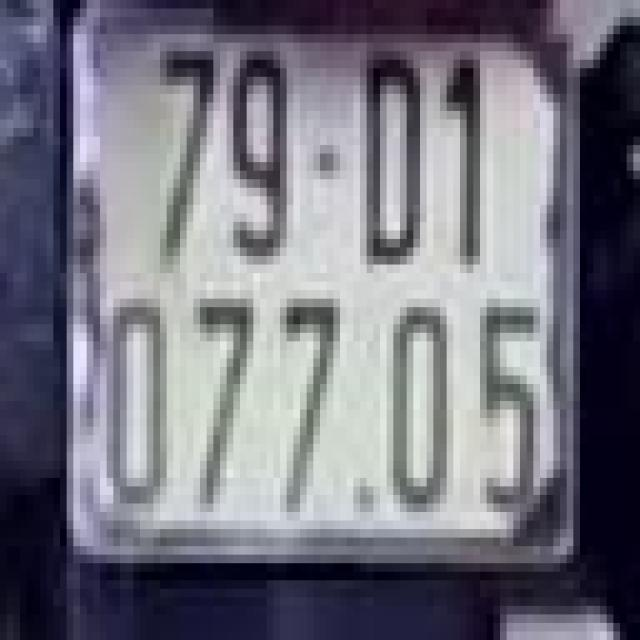0: (364, 290, 464, 529), (94, 282, 174, 512)
1: (444, 34, 504, 282)
5: (470, 277, 550, 525)
7: (133, 30, 220, 277), (264, 282, 344, 520), (180, 282, 260, 512)
9: (220, 42, 307, 264)
D: (350, 34, 430, 265)
